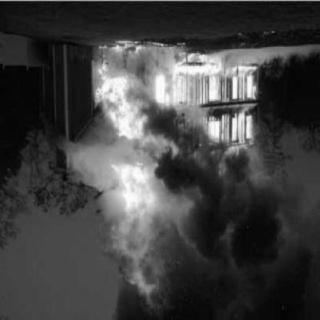Fire: (92, 38, 276, 246)
Smoke: (158, 168, 314, 318)
